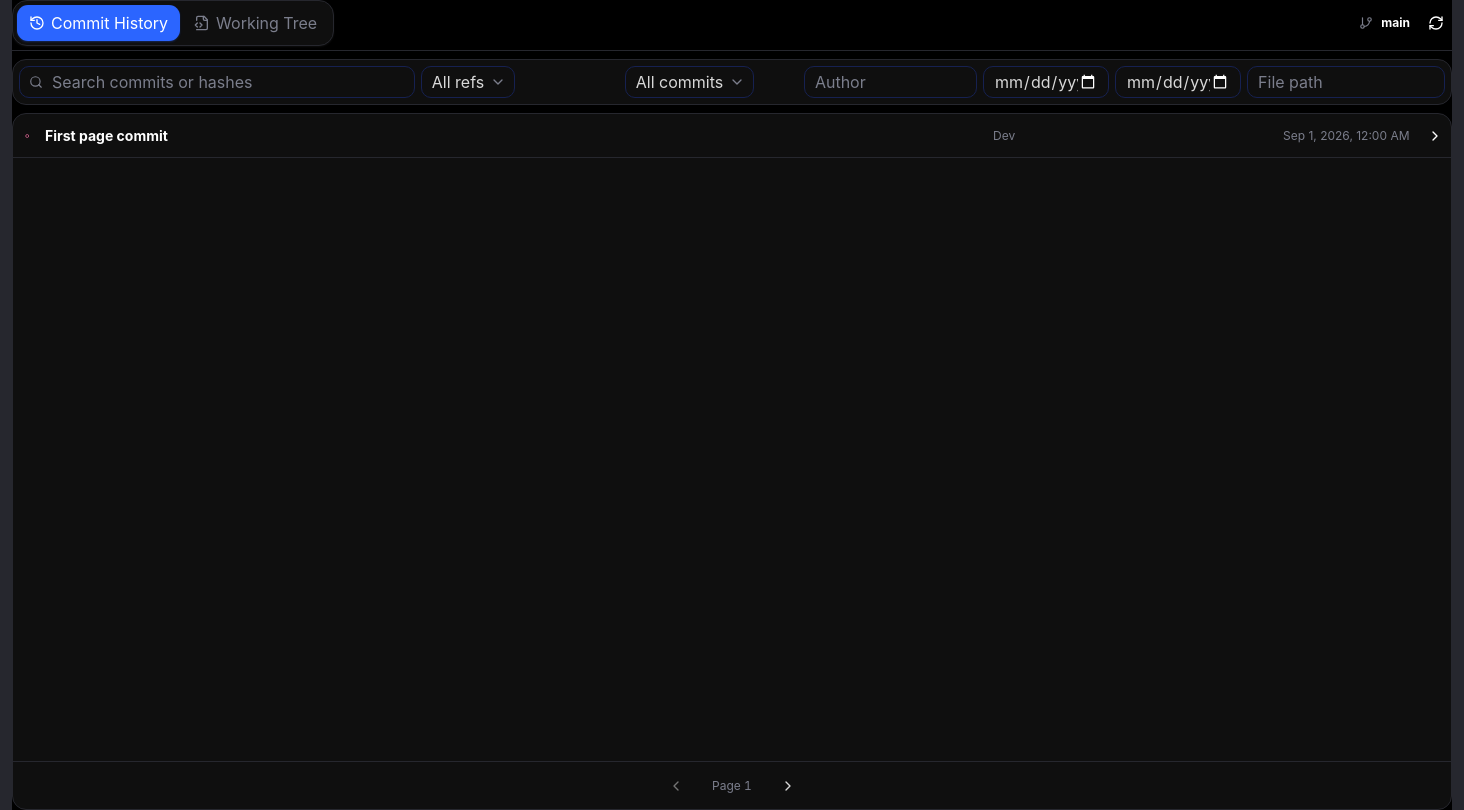
Test: WorkspaceGitPage data loading › returns to the first page and refetches only that page on refresh
This screenshot has width=1464, height=810.
Check: the text "First page commit" is shown, box [45,126,168,146]
Click the button named "Next".
click(788, 786)  # box [772,770,804,802]
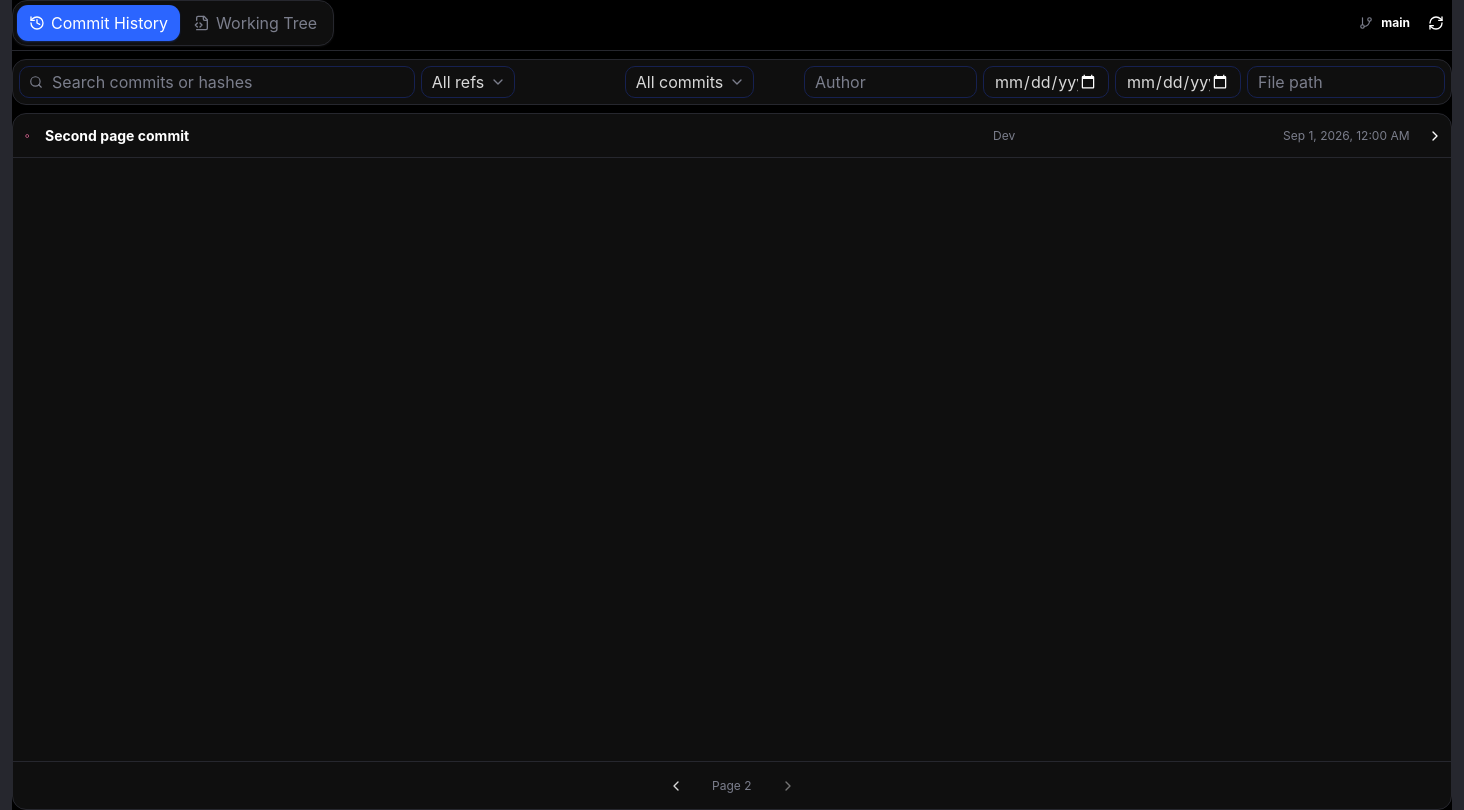
Check: the text "Second page commit" is shown, box [45,126,189,146]
Click the button named "Refresh".
click(1436, 23)  # box [1420,7,1452,39]
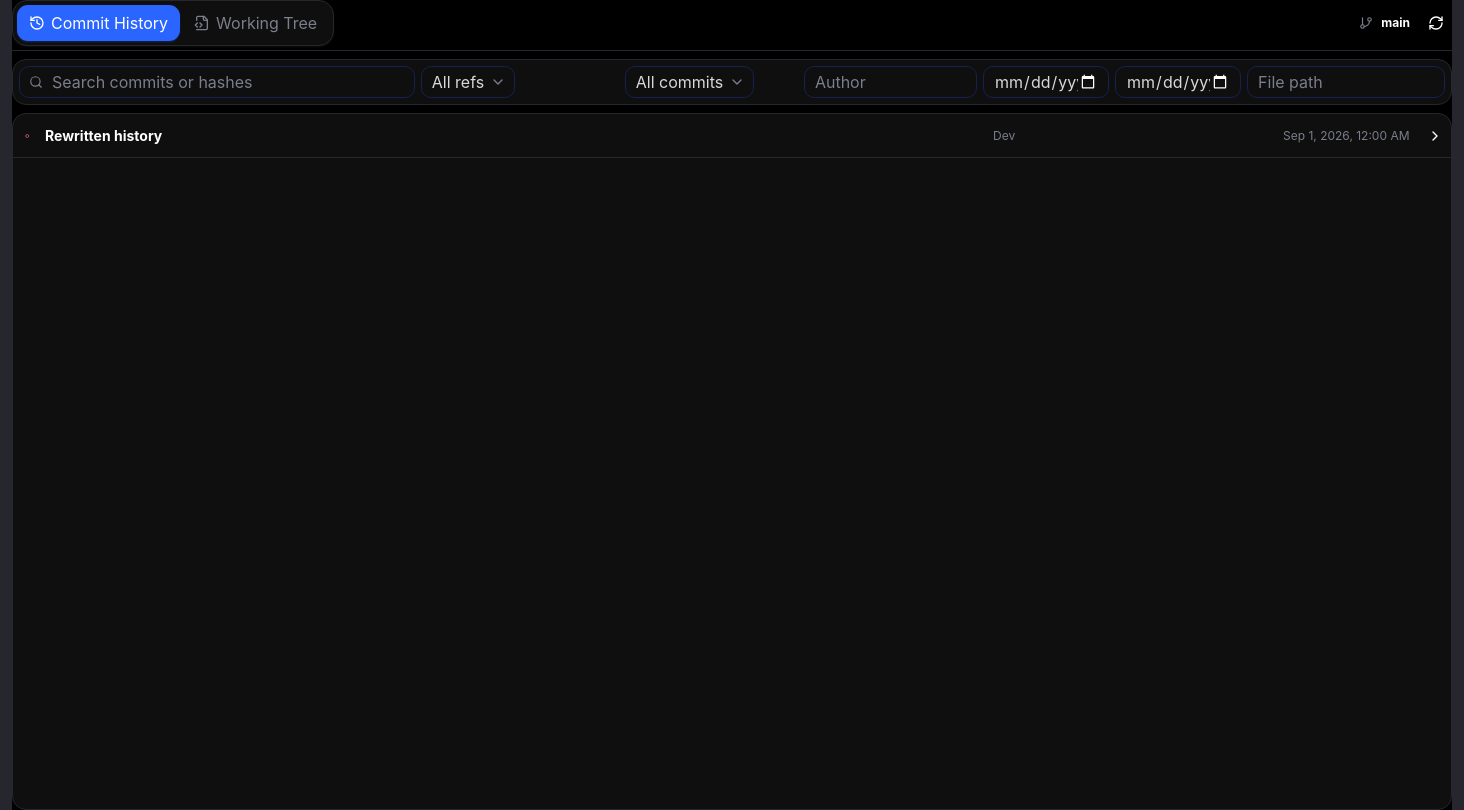
Check: the text "Rewritten history" is shown, box [45,126,162,146]
